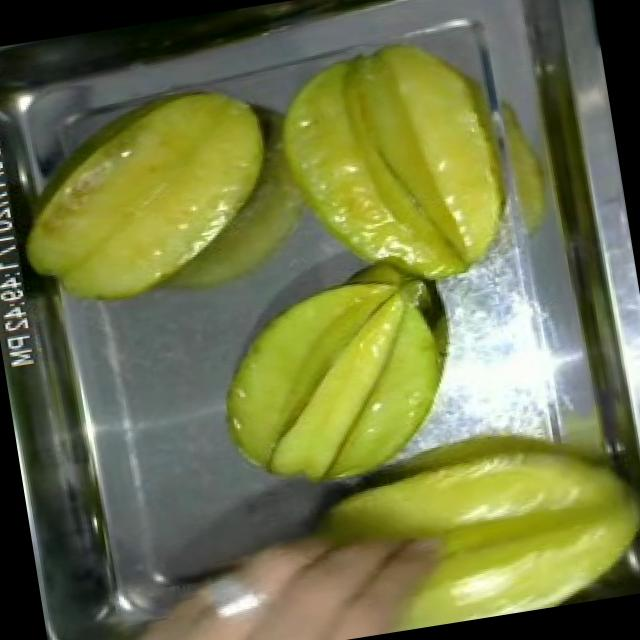fruit: (241, 407, 640, 640), (245, 13, 532, 316), (0, 62, 307, 330), (185, 253, 471, 518)
